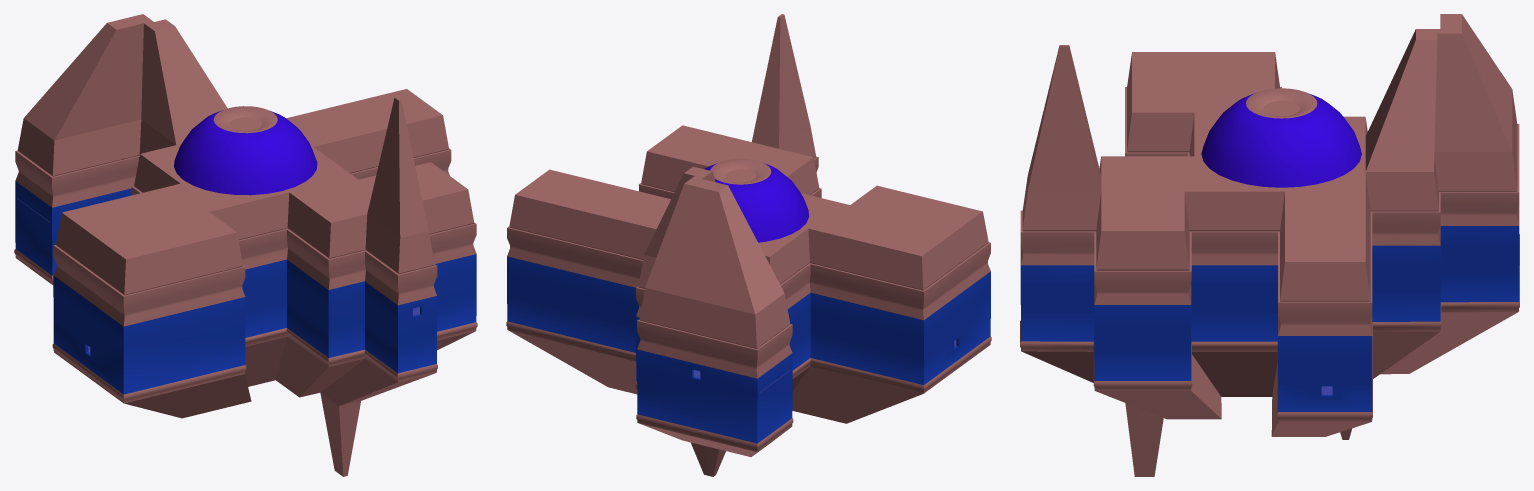
Rendered from SS Module Industrial 1.FBX.
3 views of the same model, side by side, from view 1: azimuth 30°, elevation 25°; view 2: azimuth 150°, elevation 25°; view 3: azimuth 270°, elevation 25° (orthographic). The views are drawn at different scales.
Parts seen in each view (by area): view 1: Object013, Object014, Sphere001; view 2: Object013, Object014, Sphere001; view 3: Object013, Object014, Sphere001.
Part boxes in pixels (<box>): Object013: <box>14,148,477,476</box>; Object014: <box>17,14,474,295</box>; Sphere001: <box>174,106,317,195</box>; Object013: <box>506,156,991,476</box>; Object014: <box>509,14,988,348</box>; Sphere001: <box>704,158,809,242</box>; Object013: <box>1020,87,1519,476</box>; Object014: <box>1022,14,1517,301</box>; Sphere001: <box>1201,88,1361,187</box>.
Bounding box in the file's own units: 185 × 176 × 180.
